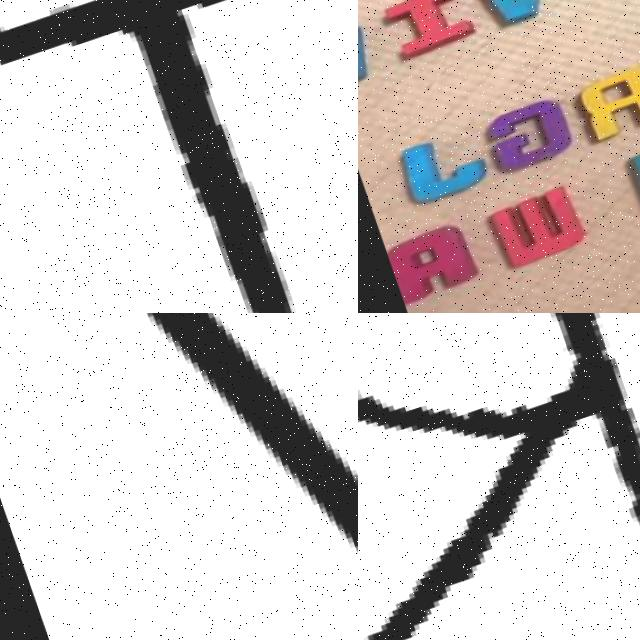7: (31, 313, 358, 640)
A: (379, 219, 481, 305)
G: (472, 91, 578, 179)
I: (377, 0, 469, 62)
J: (388, 125, 491, 208)
K: (358, 313, 640, 640)
M: (620, 134, 640, 220)
R: (567, 64, 640, 148)
T: (0, 0, 358, 313)
V: (469, 0, 553, 32)
W: (476, 182, 586, 272)
